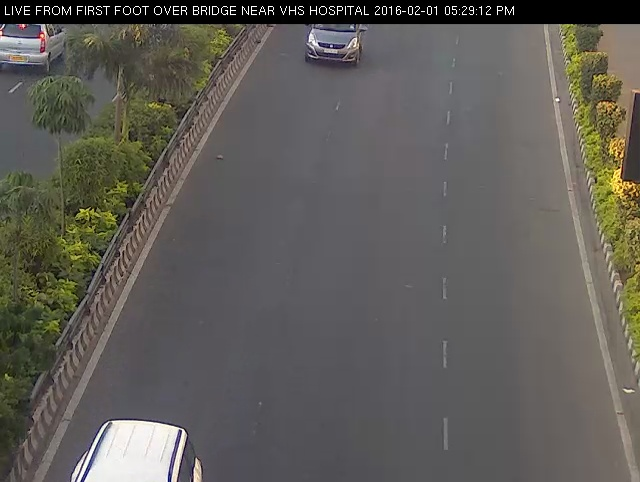Car: (59, 413, 215, 482), (296, 16, 374, 79)
